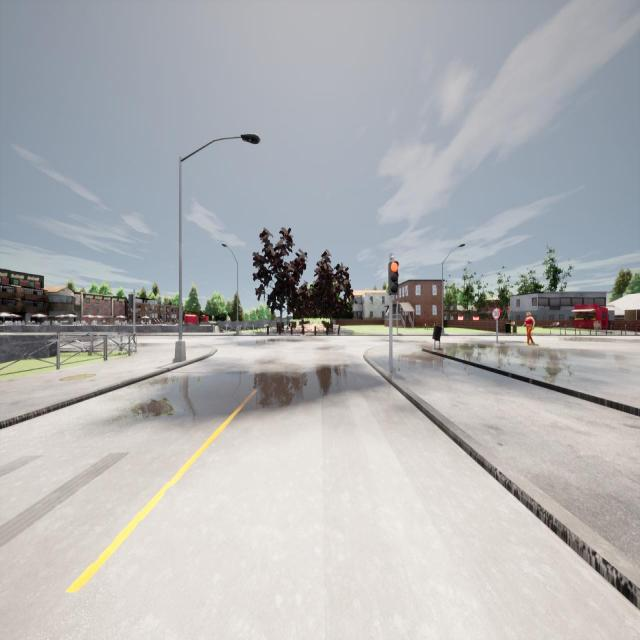Pedestrian: (522, 312, 535, 346)
Traffic_Signs: (492, 307, 501, 320)
traffic_light: (388, 262, 399, 294), (128, 294, 134, 308)
